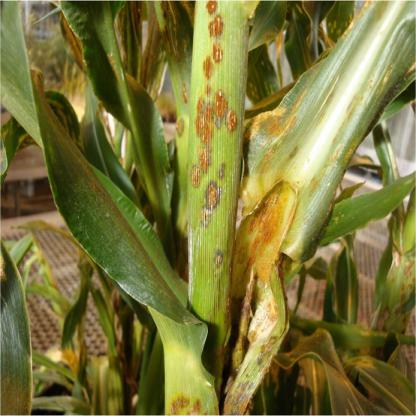Corn rust leaf: (4, 5, 184, 320), (257, 4, 412, 295)
